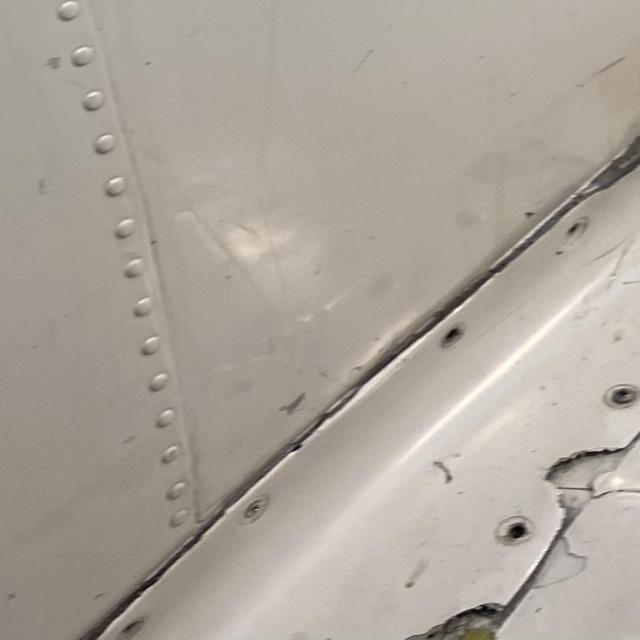Crack: (56, 445, 307, 640), (485, 106, 640, 268), (545, 452, 627, 525), (412, 609, 508, 640)
Missing-head: (496, 517, 533, 545), (439, 322, 465, 346)
Paint-off: (531, 538, 588, 596), (277, 393, 309, 419), (44, 58, 62, 71), (34, 180, 46, 197)
